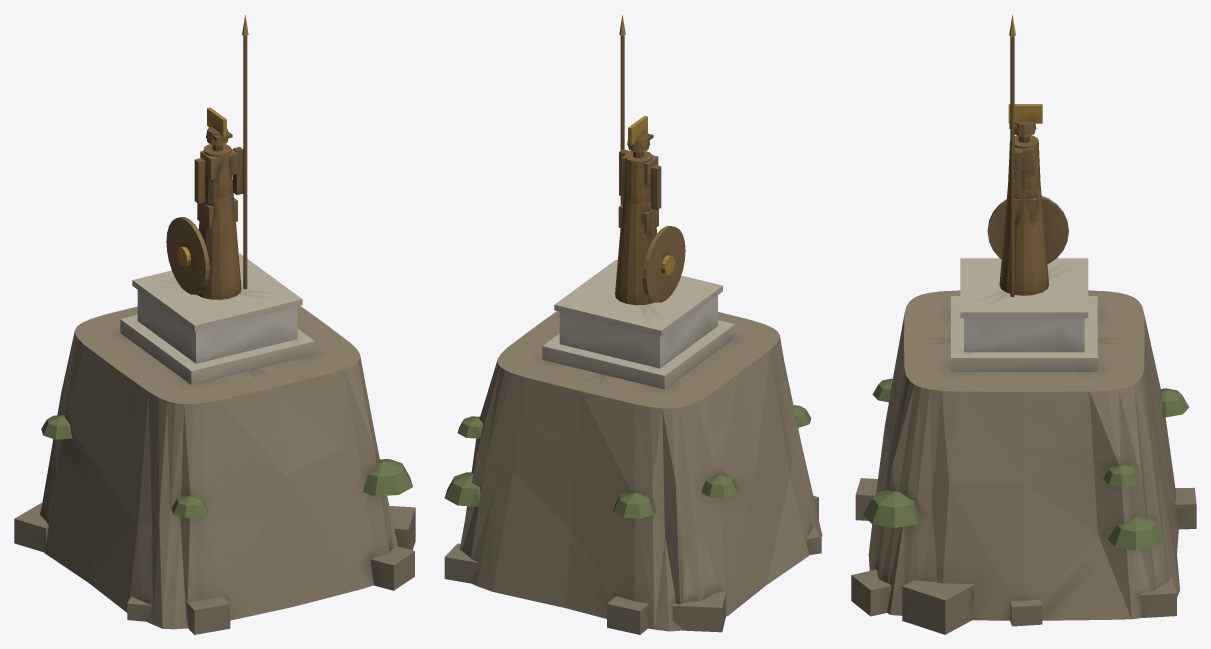
The model's file is promachos.glb.
3 renders of one model, left to right at view 1: azimuth 30°, elevation 25°; view 2: azimuth 150°, elevation 25°; view 3: azimuth 270°, elevation 25°, orthographic. The views are drawn at different scales.
Parts seen in each view (by area): view 1: p0_base, p1_statue; view 2: p0_base, p1_statue; view 3: p0_base, p1_statue.
Boxes of the visible parts, x1,y1,x2,y2 form: p0_base: [14, 253, 415, 634]; p1_statue: [166, 15, 248, 299]; p0_base: [444, 259, 822, 634]; p1_statue: [615, 15, 685, 305]; p0_base: [851, 258, 1196, 634]; p1_statue: [987, 14, 1068, 296].
Bounding box in the file's own units: 13.77 × 23.26 × 13.18.
